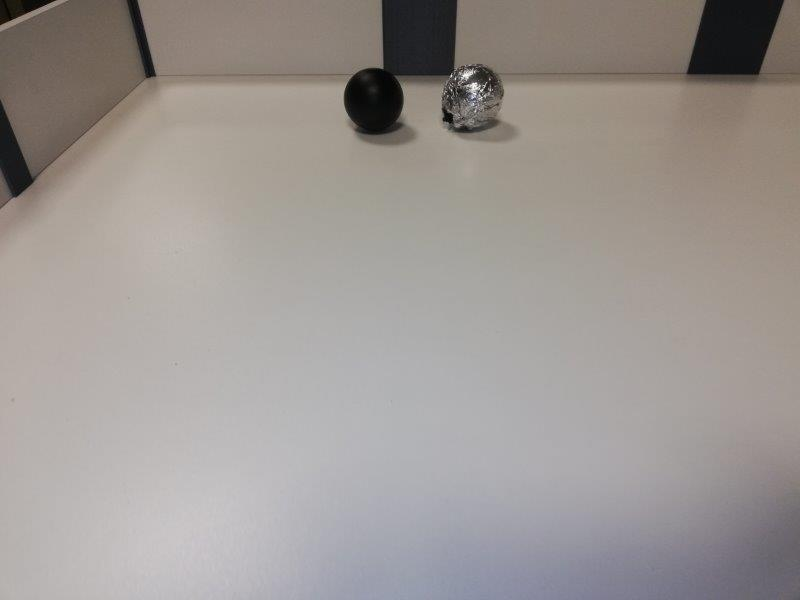bianca: (438, 65, 503, 132)
nera: (345, 68, 404, 133)
